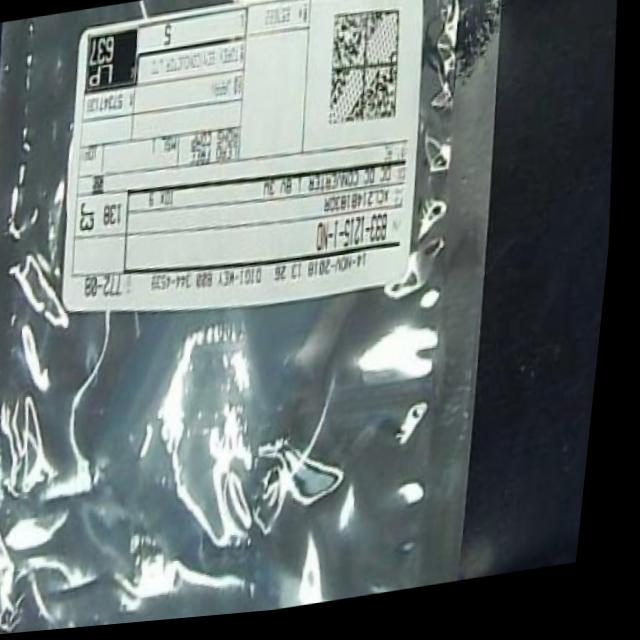datamatrix: (321, 4, 412, 141)
